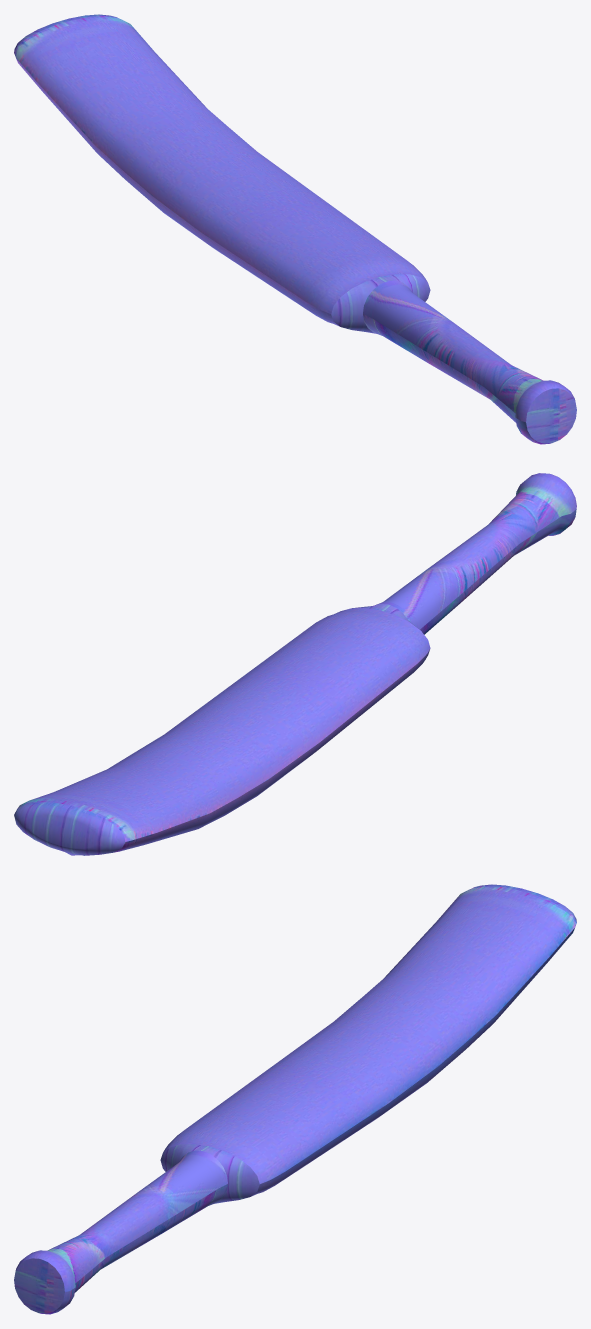
Rendered from Cricket_Bat.glb.
3 views of the same model, one above another, from view 1: azimuth 30°, elevation 25°; view 2: azimuth 150°, elevation 25°; view 3: azimuth 330°, elevation 25° (orthographic).
Parts seen in each view (by area): view 1: Cricket_Bat; view 2: Cricket_Bat; view 3: Cricket_Bat.
Part boxes in pixels (box(x1,y1,x2,y2)): Cricket_Bat: box(14, 14, 576, 444); Cricket_Bat: box(14, 473, 576, 855); Cricket_Bat: box(14, 884, 576, 1314).
Size of the model in its own units: 1.14 by 0.9209 by 8.22.
Materials: 1 (1 with a texture image).
